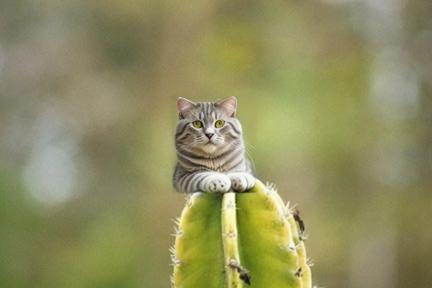cat: (172, 97, 255, 192)
